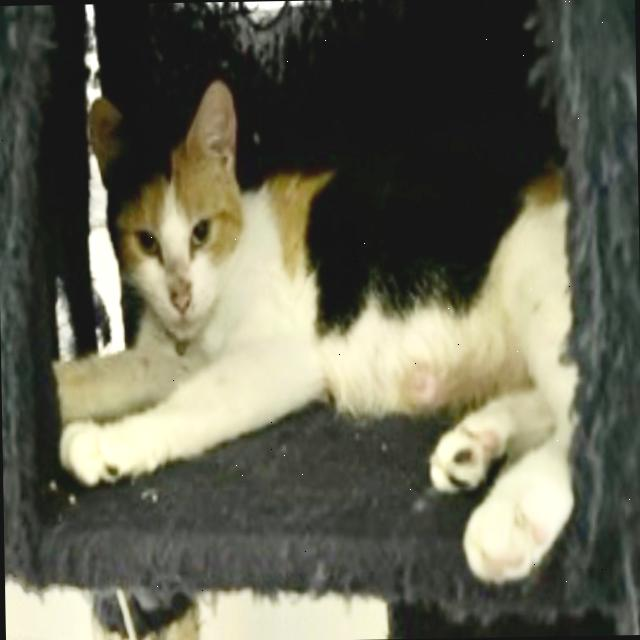calico_cat: (74, 64, 264, 360)
